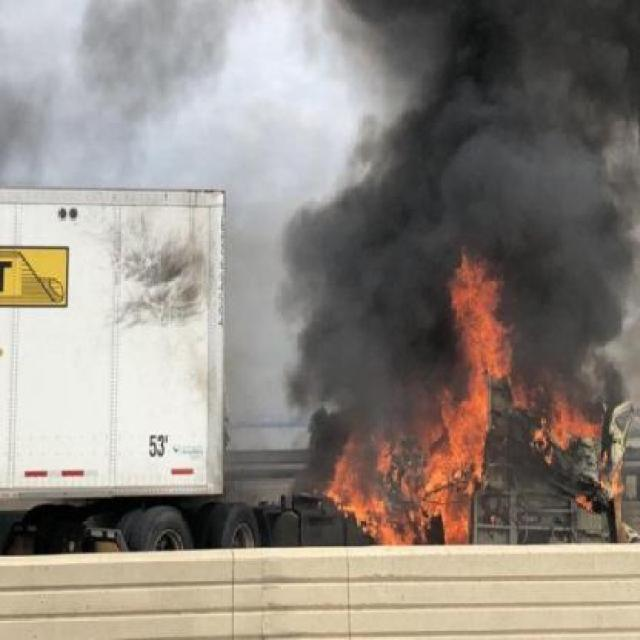Fire: (314, 266, 640, 557)
Smoke: (326, 0, 640, 475), (15, 11, 360, 200)
